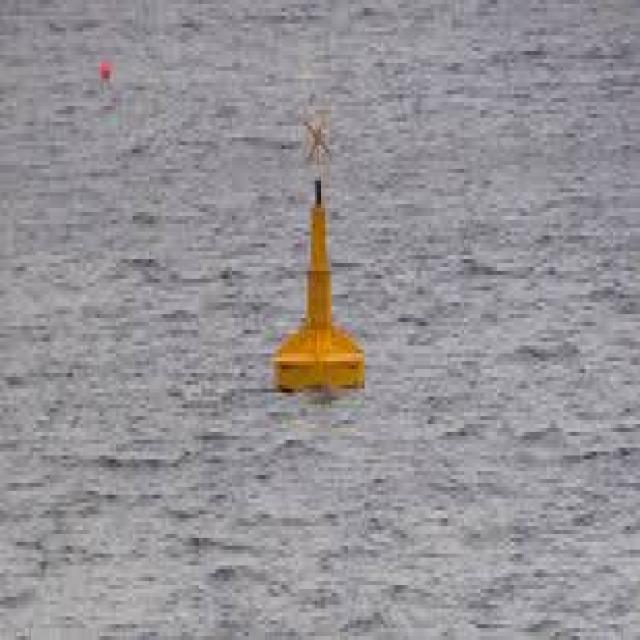marque: (274, 99, 376, 404)
